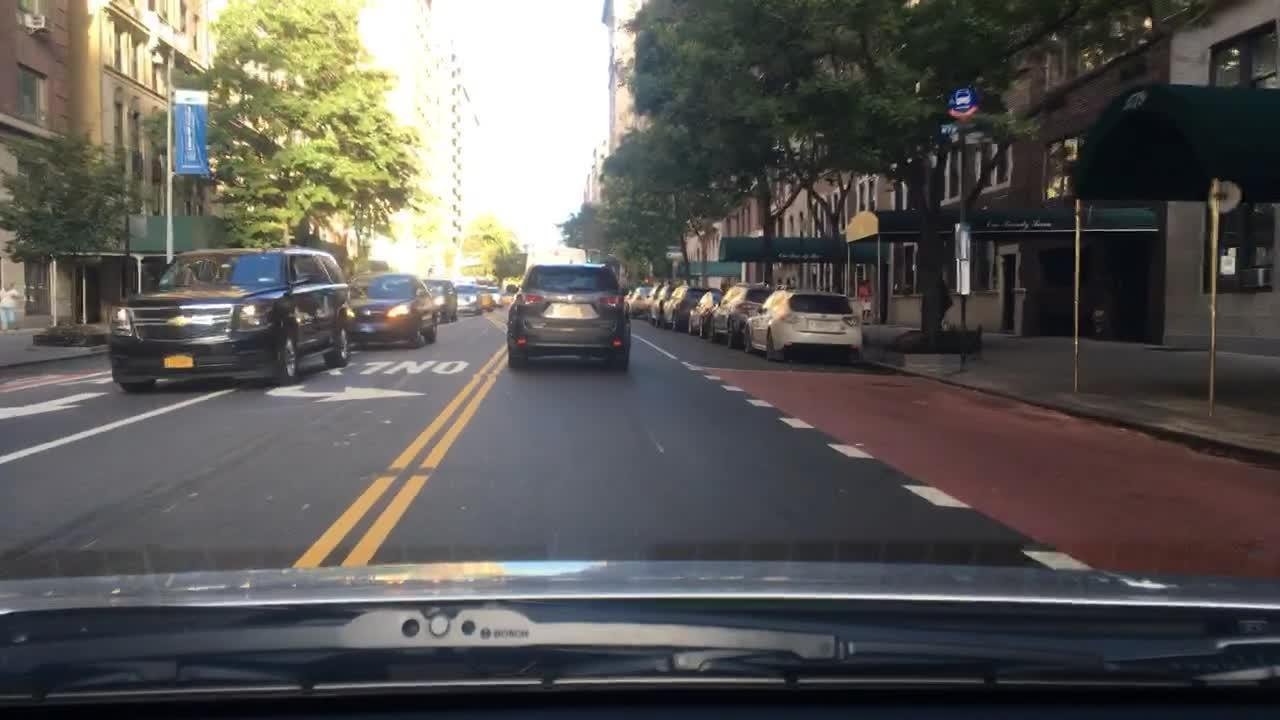chevrolet: (159, 310, 203, 334)
